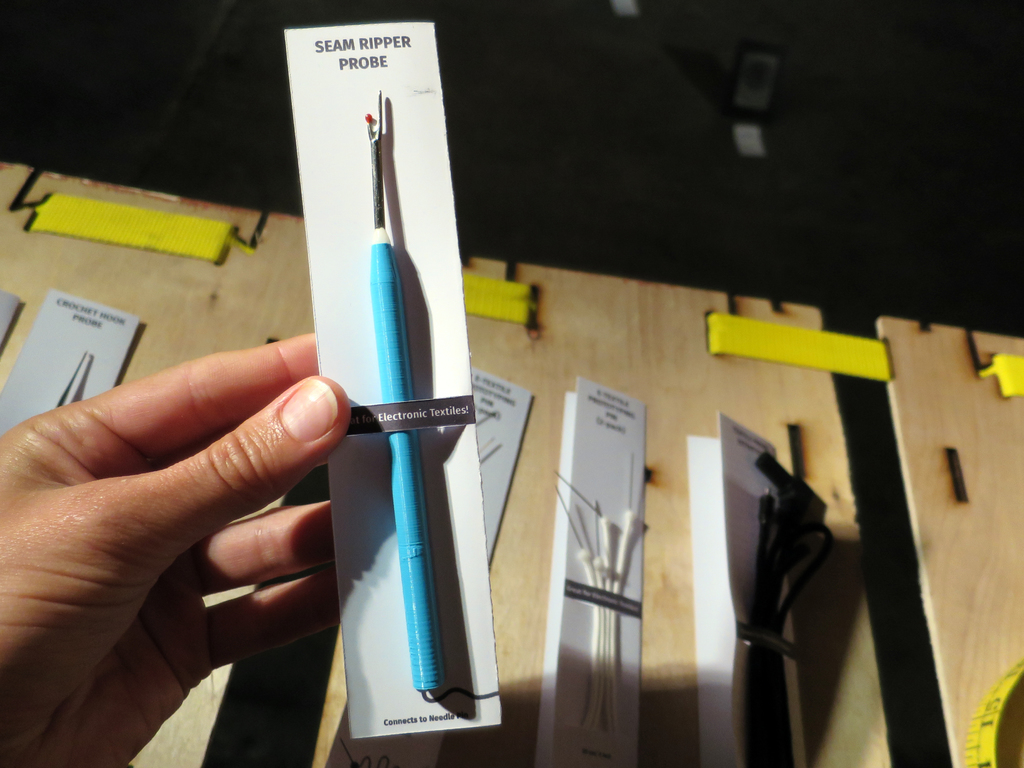Pen: (379, 85, 434, 700)
